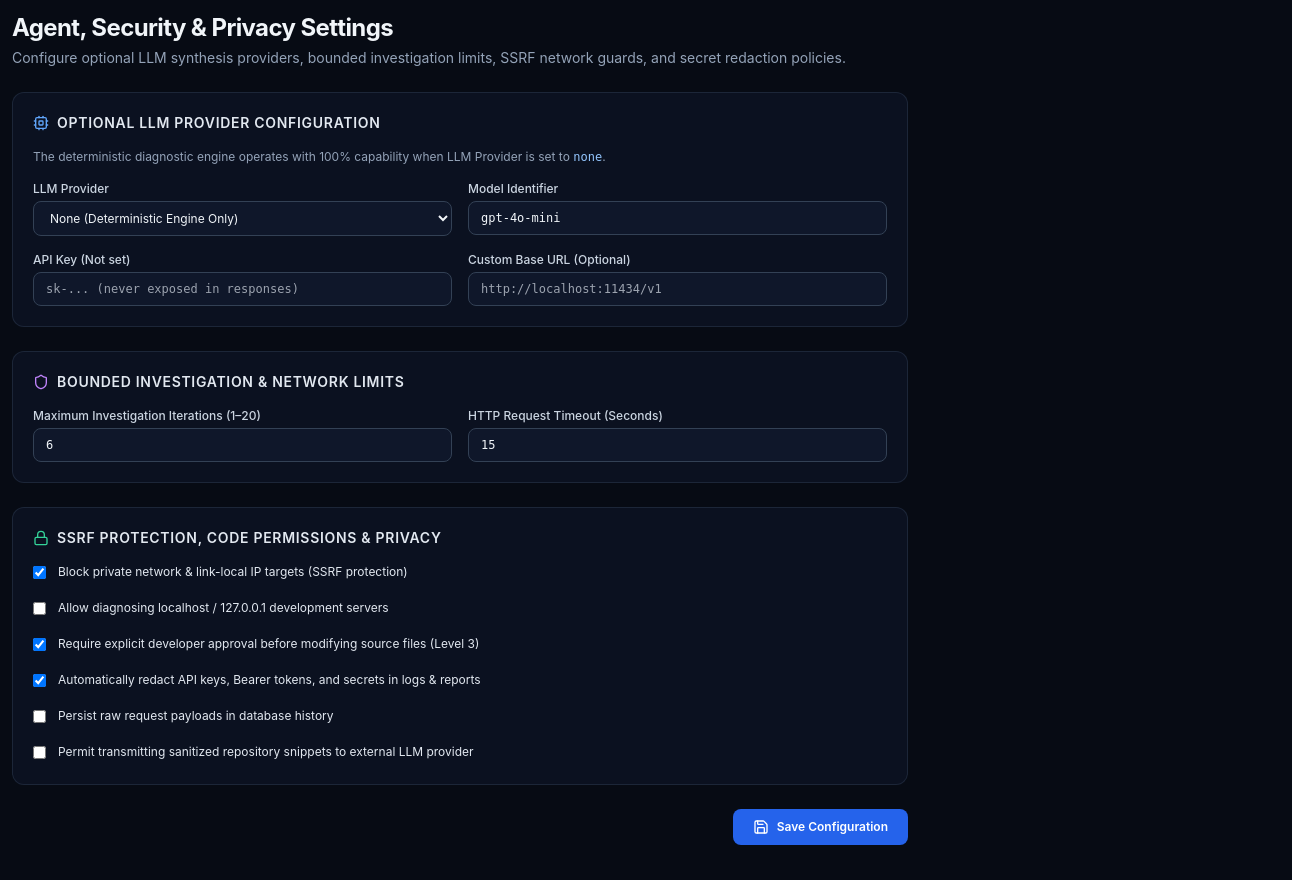
it: API Detective Web Dashboard Suite › renders AgentSettingsPage and saves updated settings
This screenshot has width=1292, height=880.
Expected: the heading "Agent, Security & Privacy Settings" is shown, [12,13,393,42]
Step 1. Click the button "Save Configuration" → (820, 827), box [733,809,908,845]
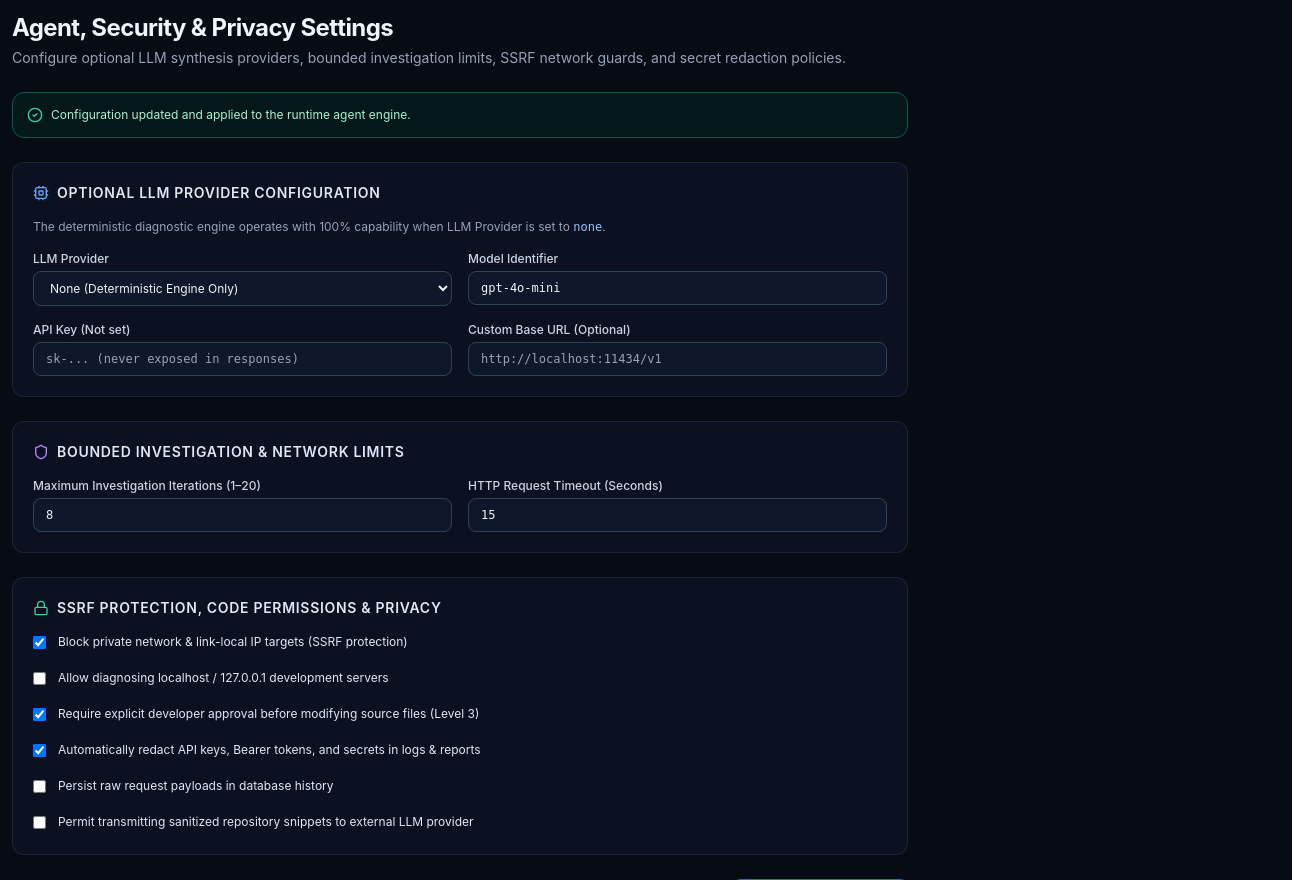
Result: the text "Configuration updated and applied to the runtime agent engine." is shown at [51,107,411,123]
